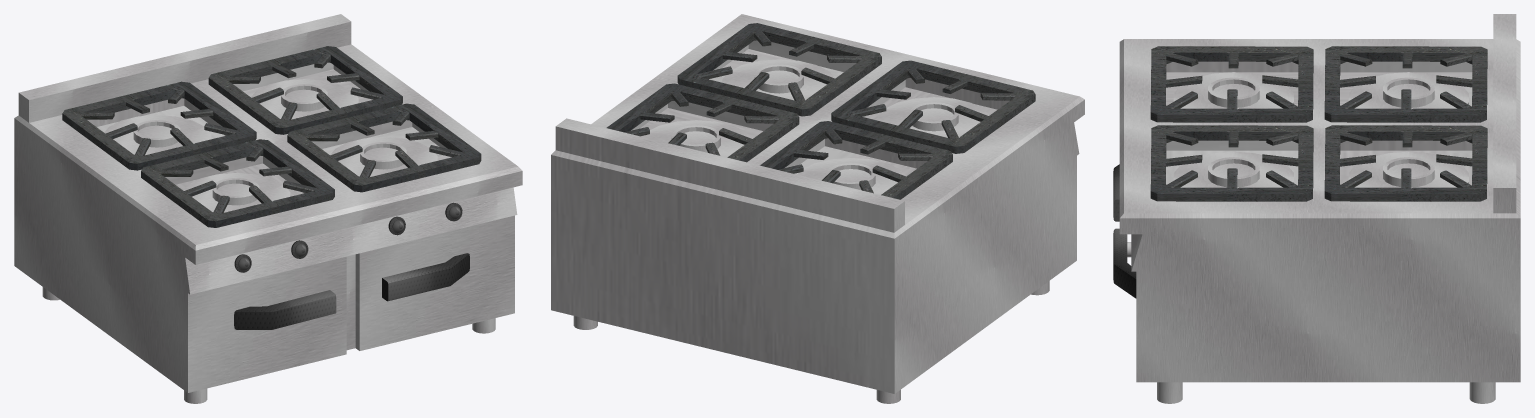
File: Kitchen_Grill_Unwrapped.fbx
3 views of the same model, side by side, from view 1: azimuth 30°, elevation 25°; view 2: azimuth 150°, elevation 25°; view 3: azimuth 270°, elevation 25° (orthographic). The views are drawn at different scales.
Visible parts, largest first — view 1: Box009, Tube001, Tube002, Tube004, Tube003, Box011, Box010, Cylinder040, Cylinder037, Cylinder033, Cylinder035, Cylinder038 (+3 smaller); view 2: Box009, Tube002, Tube001, Tube004, Tube003, Cylinder033, Cylinder035, Cylinder040, Cylinder037, Cylinder034, Cylinder036, Cylinder038 (+1 smaller); view 3: Box009, Tube001, Tube002, Tube003, Tube004, Cylinder037, Cylinder035, Cylinder040, Cylinder033, Cylinder034, Cylinder038, Cylinder039 (+5 smaller).
Boxes of the visible parts, box(x1,y1,x2,y2) form: Box009: box(14, 14, 522, 392); Tube001: box(287, 103, 481, 192); Tube002: box(141, 139, 334, 227); Tube004: box(208, 46, 402, 134); Tube003: box(62, 81, 256, 170); Box011: box(234, 290, 336, 329); Box010: box(382, 253, 469, 301); Cylinder040: box(251, 79, 358, 119); Cylinder037: box(104, 115, 211, 155); Cylinder033: box(330, 137, 437, 176); Cylinder035: box(183, 173, 290, 212); Cylinder038: box(133, 120, 180, 147); Box009: box(551, 14, 1084, 393); Tube002: box(831, 60, 1035, 153); Tube001: box(677, 23, 881, 116); Tube004: box(606, 83, 799, 162); Tube003: box(760, 121, 952, 199); Cylinder033: box(722, 59, 834, 100); Cylinder035: box(877, 97, 989, 137); Cylinder040: box(642, 120, 751, 157); Cylinder037: box(797, 158, 906, 194); Cylinder034: box(754, 64, 803, 93); Cylinder036: box(909, 102, 958, 131); Cylinder038: box(826, 163, 875, 190); Box009: box(1119, 14, 1520, 382); Tube001: box(1150, 125, 1313, 201); Tube002: box(1150, 46, 1313, 122); Tube003: box(1324, 46, 1487, 122); Tube004: box(1324, 125, 1487, 201); Cylinder037: box(1348, 72, 1468, 109); Cylinder035: box(1173, 72, 1293, 109); Cylinder040: box(1348, 151, 1468, 188); Cylinder033: box(1173, 151, 1293, 188); Cylinder034: box(1208, 157, 1259, 187); Cylinder038: box(1383, 77, 1434, 107); Cylinder039: box(1383, 157, 1434, 187).
Size of the model in its own units: 95.61 by 54.93 by 93.16.
